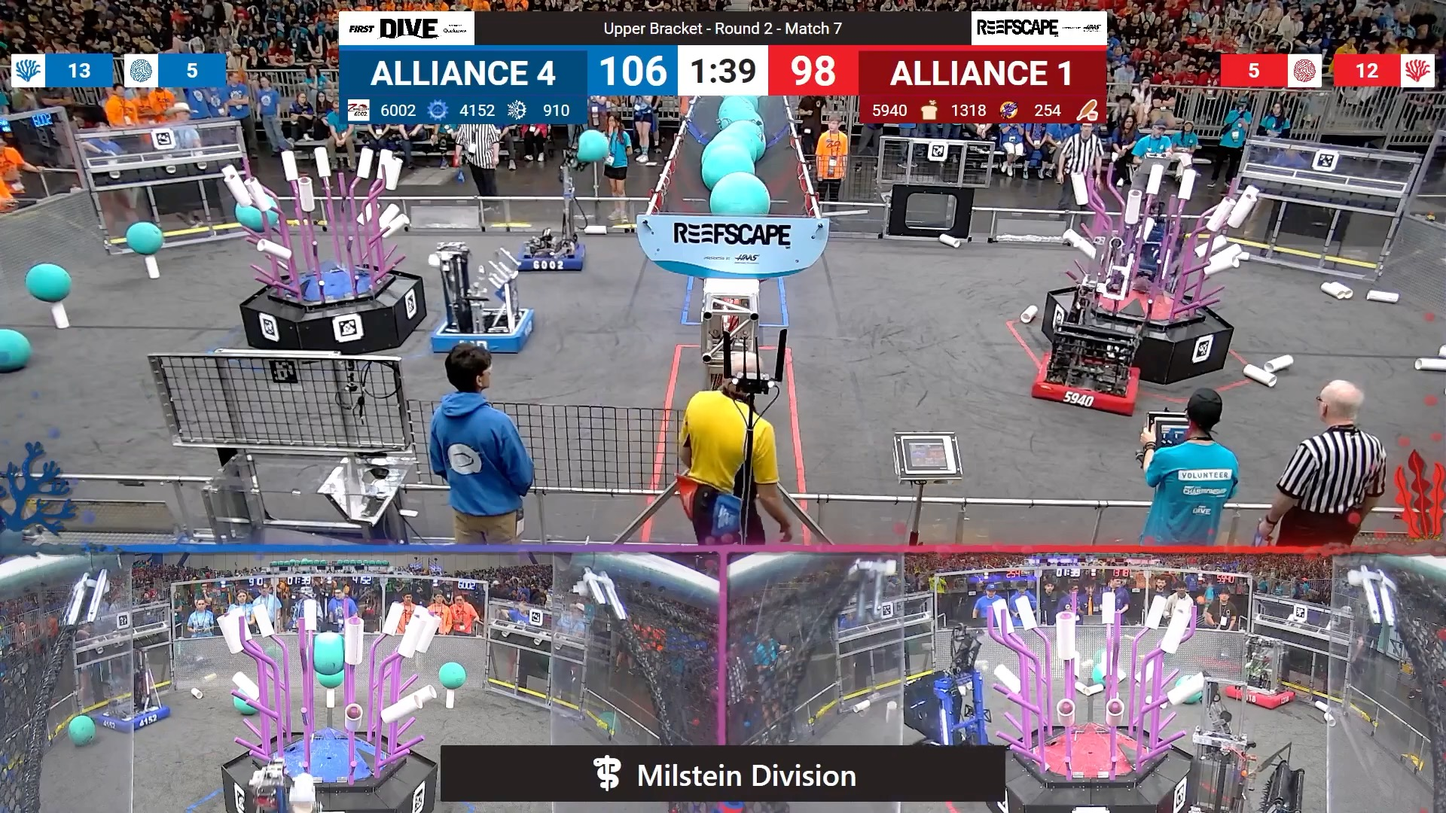bumpers: (1025, 346, 1150, 419), (427, 304, 538, 357), (89, 700, 179, 740), (1215, 678, 1302, 711), (508, 241, 590, 276)
